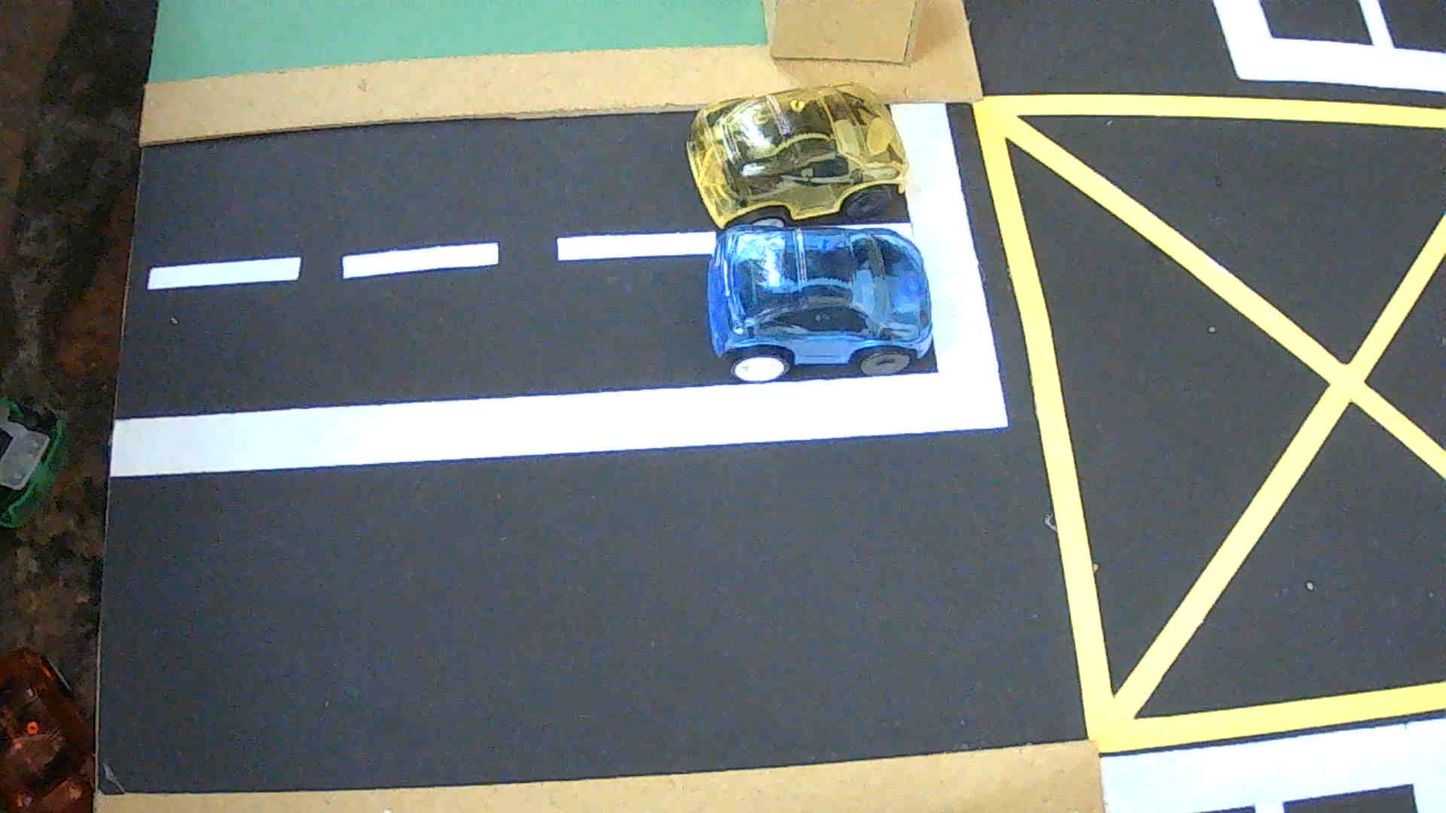Mobil biru: (706, 225, 933, 382)
Mobil kuning: (686, 84, 908, 227)
